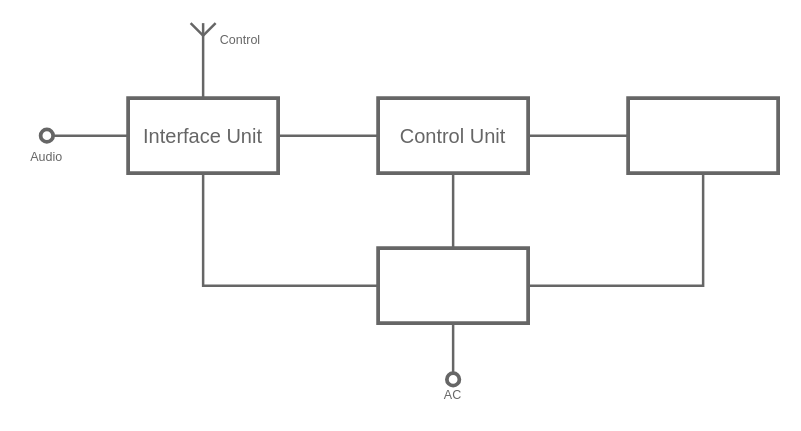
The diagram is 801 pixels wide and 431 high, and some of its shapes have lost their labels. Here are the shapes that lost their labels. From the top down, the centre of each, then its label:
At [702,135]: "Display Unit".
At [452,285]: "Power Unit".
